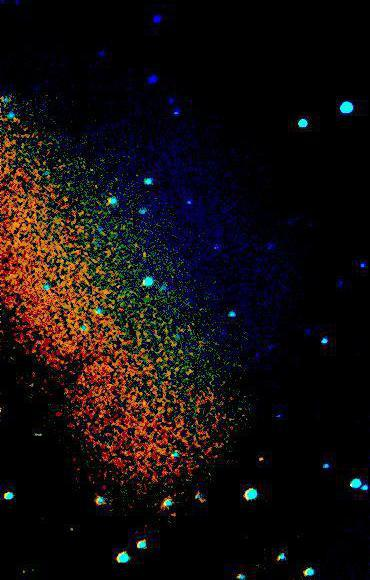star: (246, 446, 276, 476)
